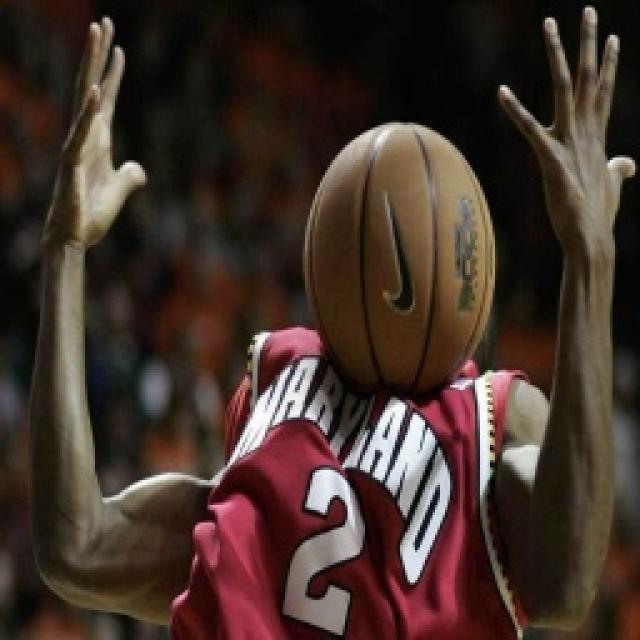rim: (300, 118, 494, 400)
